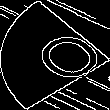O_SE: (8, 21, 102, 89)
